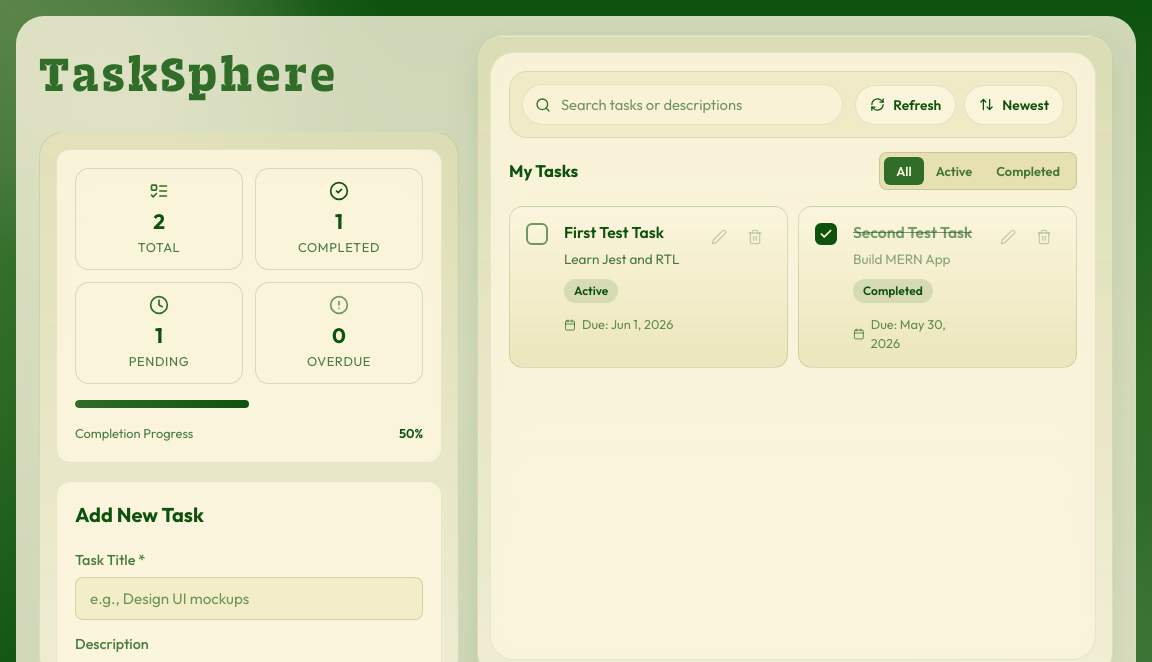
Test: MERN Todo App Integration Tests › toggles active and completed filter tabs correctly
The image size is (1152, 662).
Check: the heading "First Test Task" is shown, box [564,222,664,242]
Check: the heading "Second Test Task" is shown, box [853,221,976,244]
// Click Active filter
Step 1. Click the button "Active" → (954, 171), box [924,157,984,185]
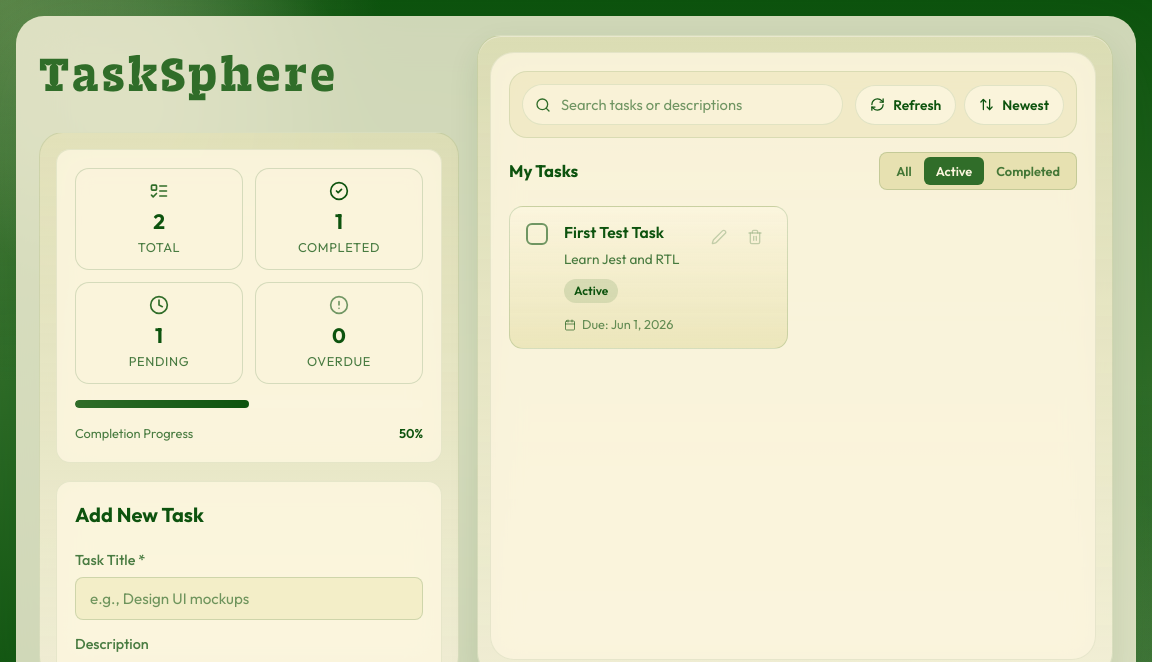
Check: the heading "First Test Task" is shown, box [564,222,664,242]
Check: the heading "Second Test Task" is gone
// Click Completed filter
Step 2. Click the button "Completed" → (1028, 171), box [984,157,1072,185]
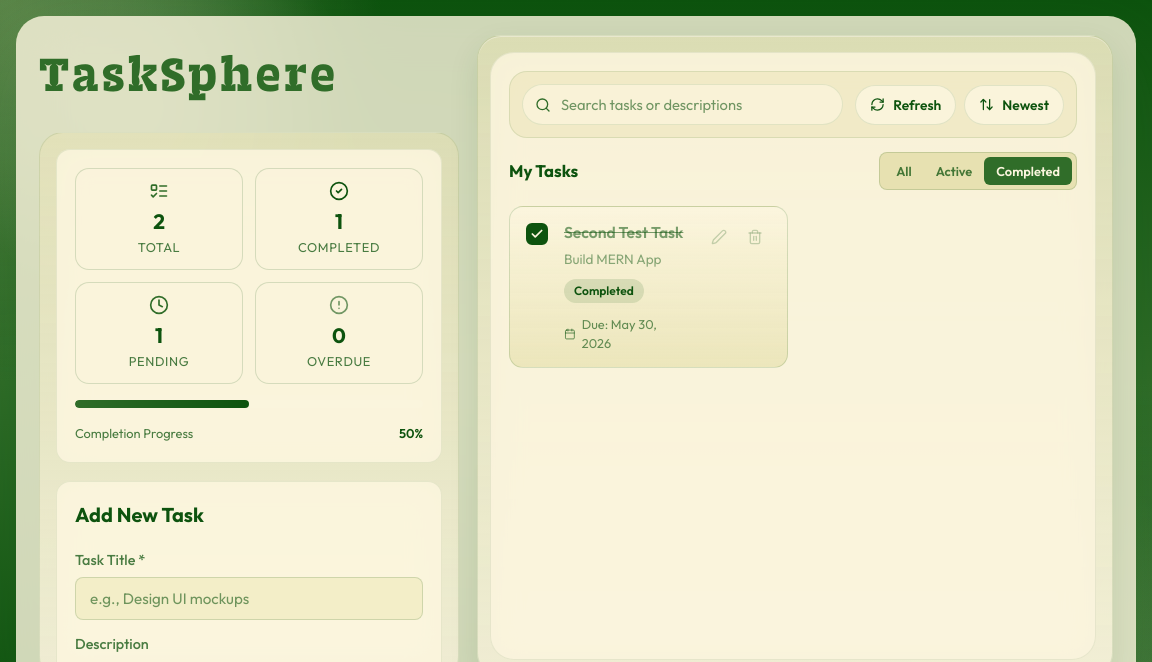
Check: the heading "First Test Task" is gone
Check: the heading "Second Test Task" is shown, box [564,221,687,244]
